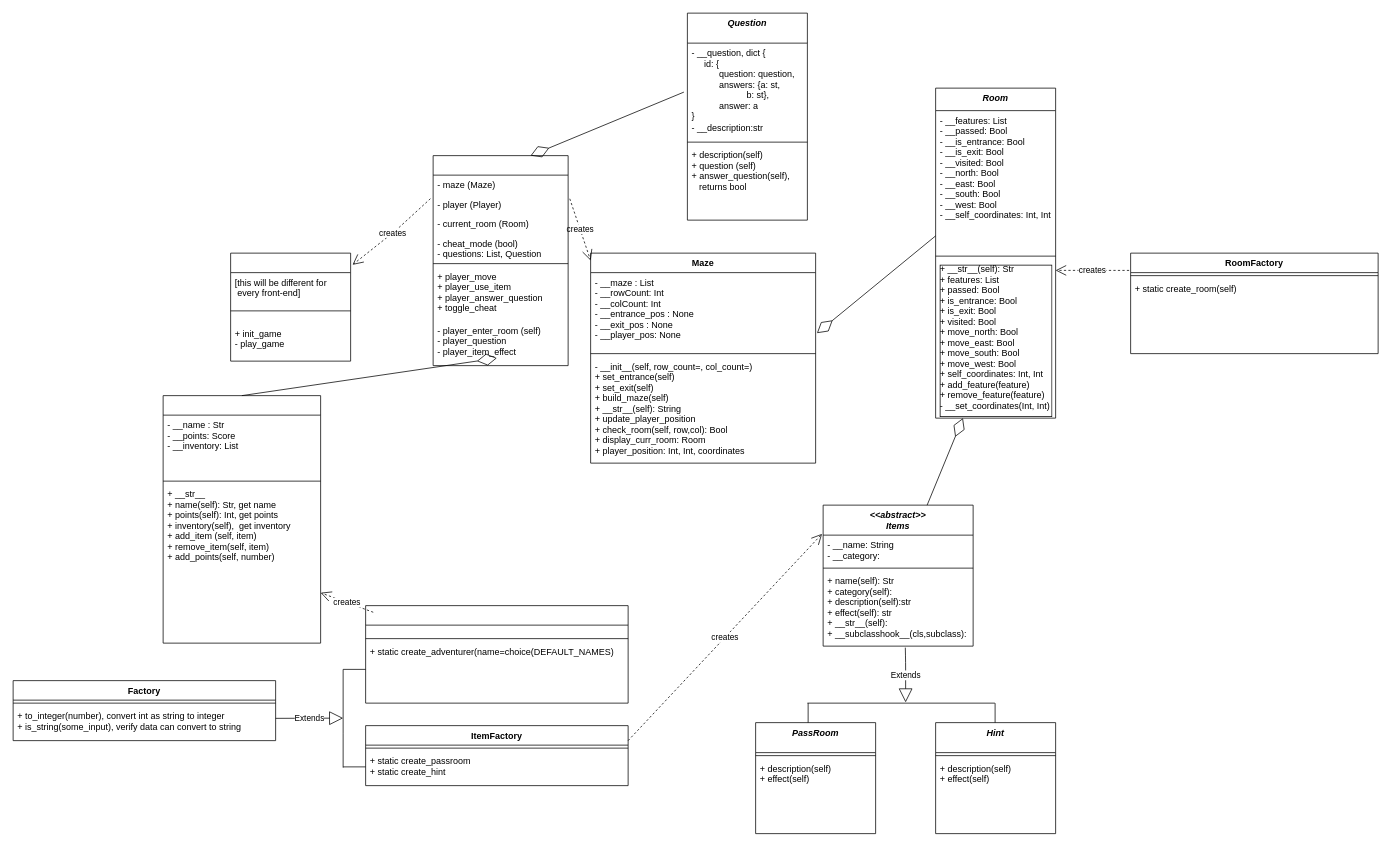
The diagram is 1391 pixels wide and 849 high, and some of its shapes have lost their labels. Here are the shapes that lost their labels. From the top down, the box of each, then its label:
(432, 155, 568, 366): TrivaMazeGame
(230, 252, 351, 361): TriviaMaze
(162, 395, 321, 643): Player
(365, 605, 628, 703): PlayerFactory
